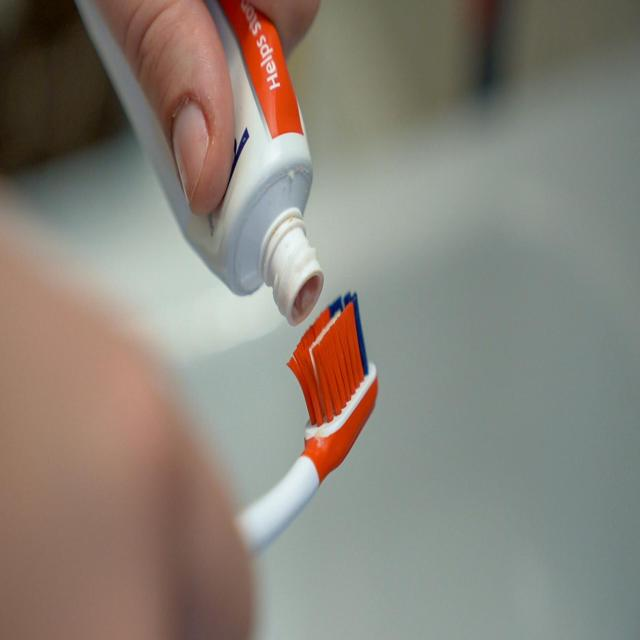Toothpaste: (67, 0, 342, 324)
